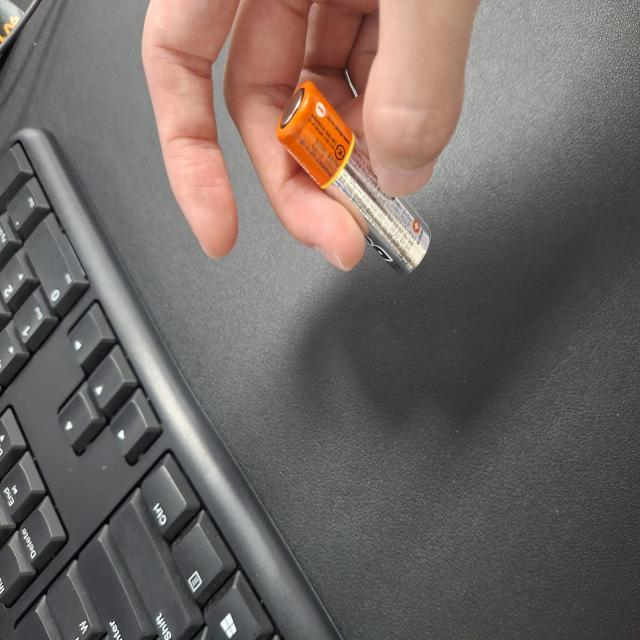AA: (275, 369, 419, 574)
